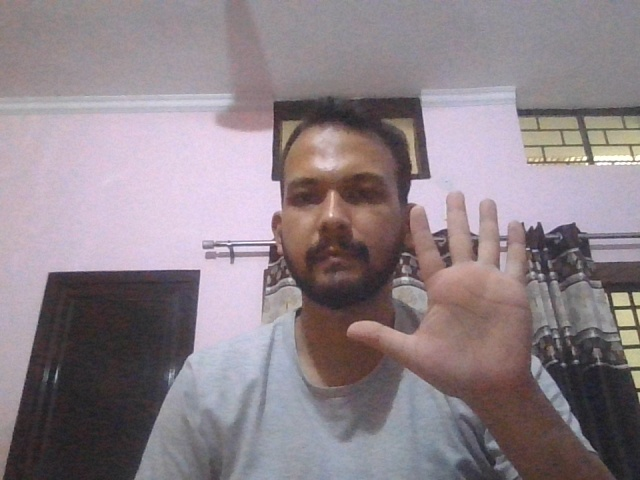hello: (345, 192, 531, 412)
